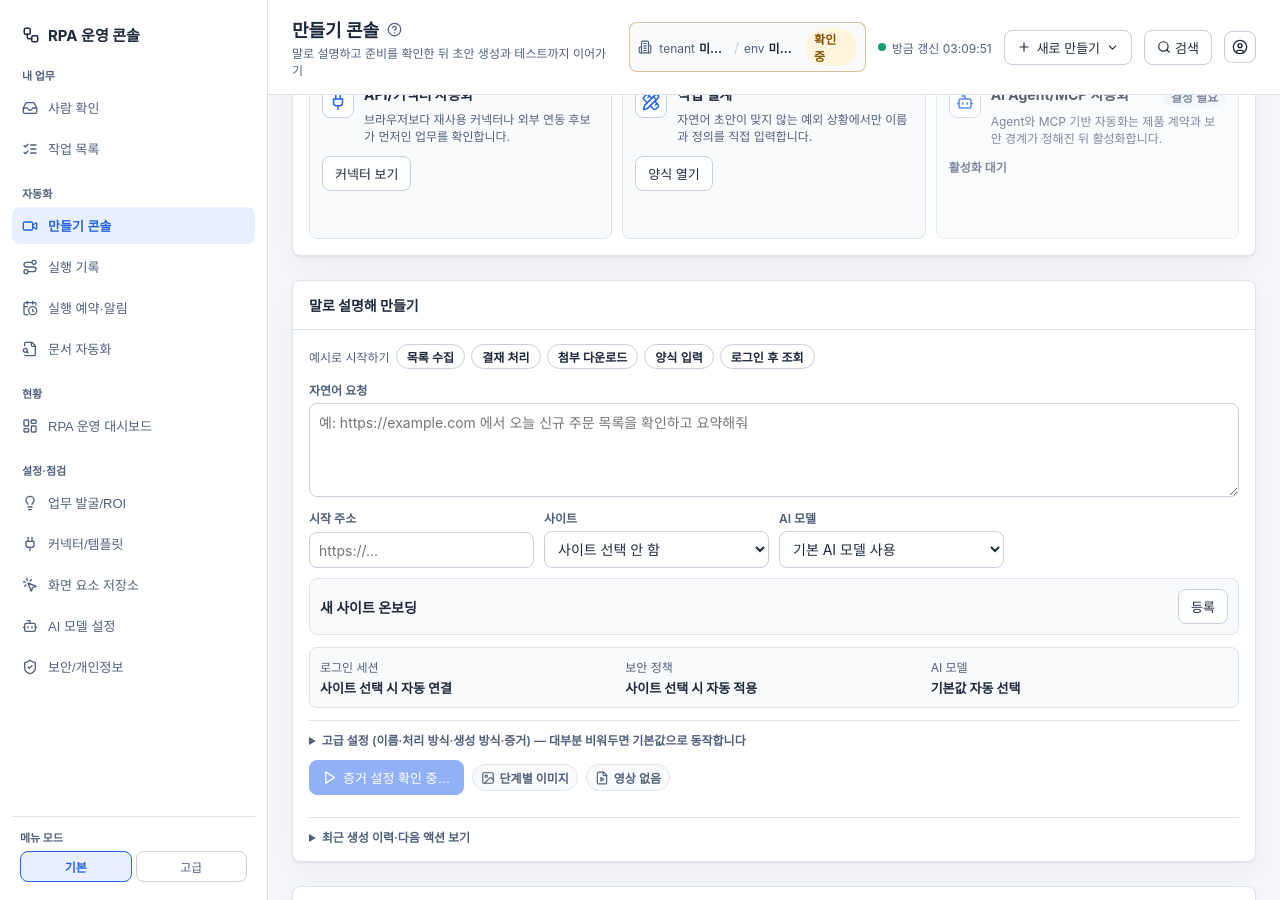
Test: create one-pass shell (F3) › TESTING: 테스트 실행이 화면 이동 없이 홈 안 TestProgress 로 이어진다
This screenshot has width=1280, height=900.
(page scrolled)
Type "주문 목록을 확인해줘" into the text box labelled "자연어 요청" at (774, 450), box [309,403,1239,497]
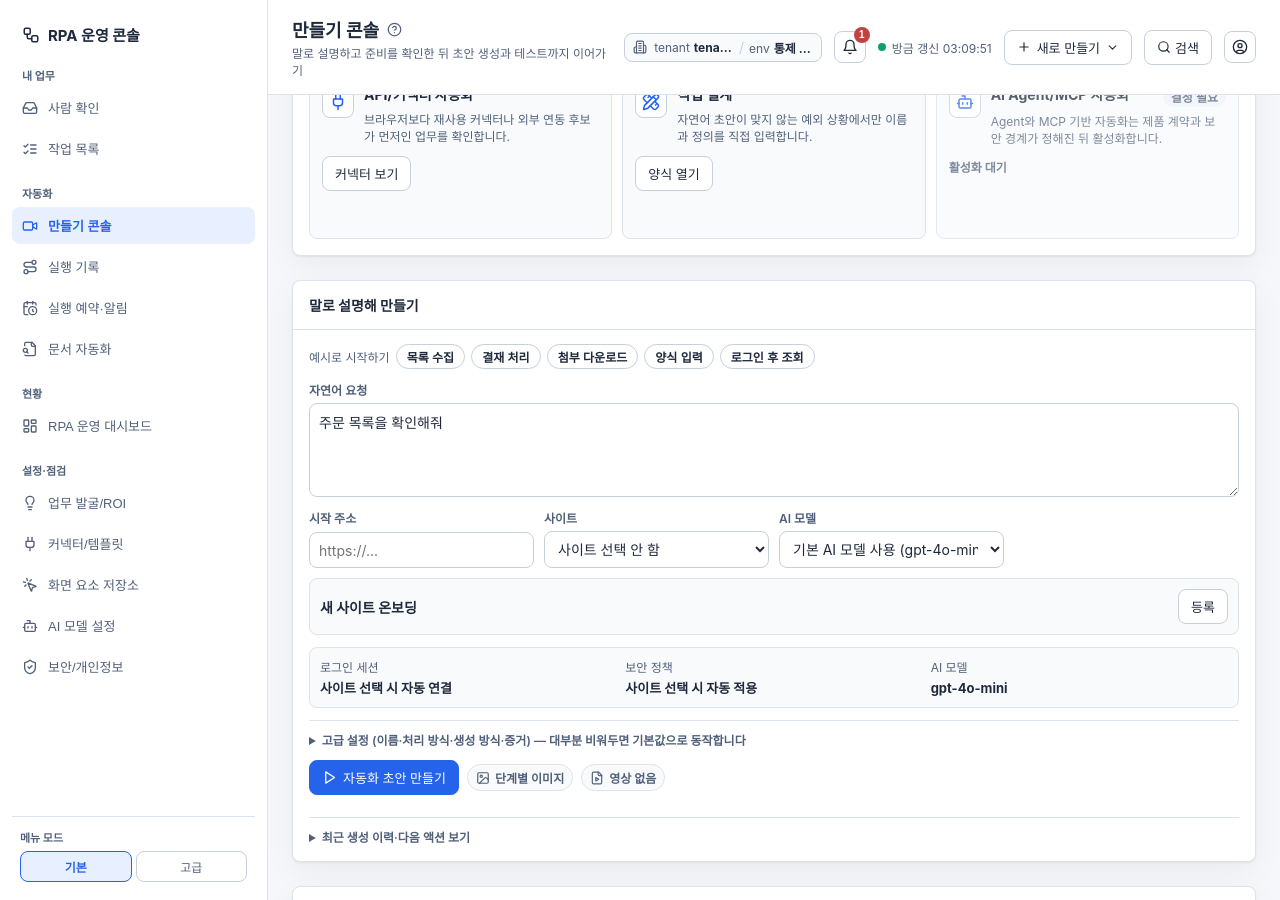
Expected: the button "자동화 초안 만들기" is enabled
Click the button "자동화 초안 만들기" at (384, 778), box [309,760,459,795]
(page scrolled)
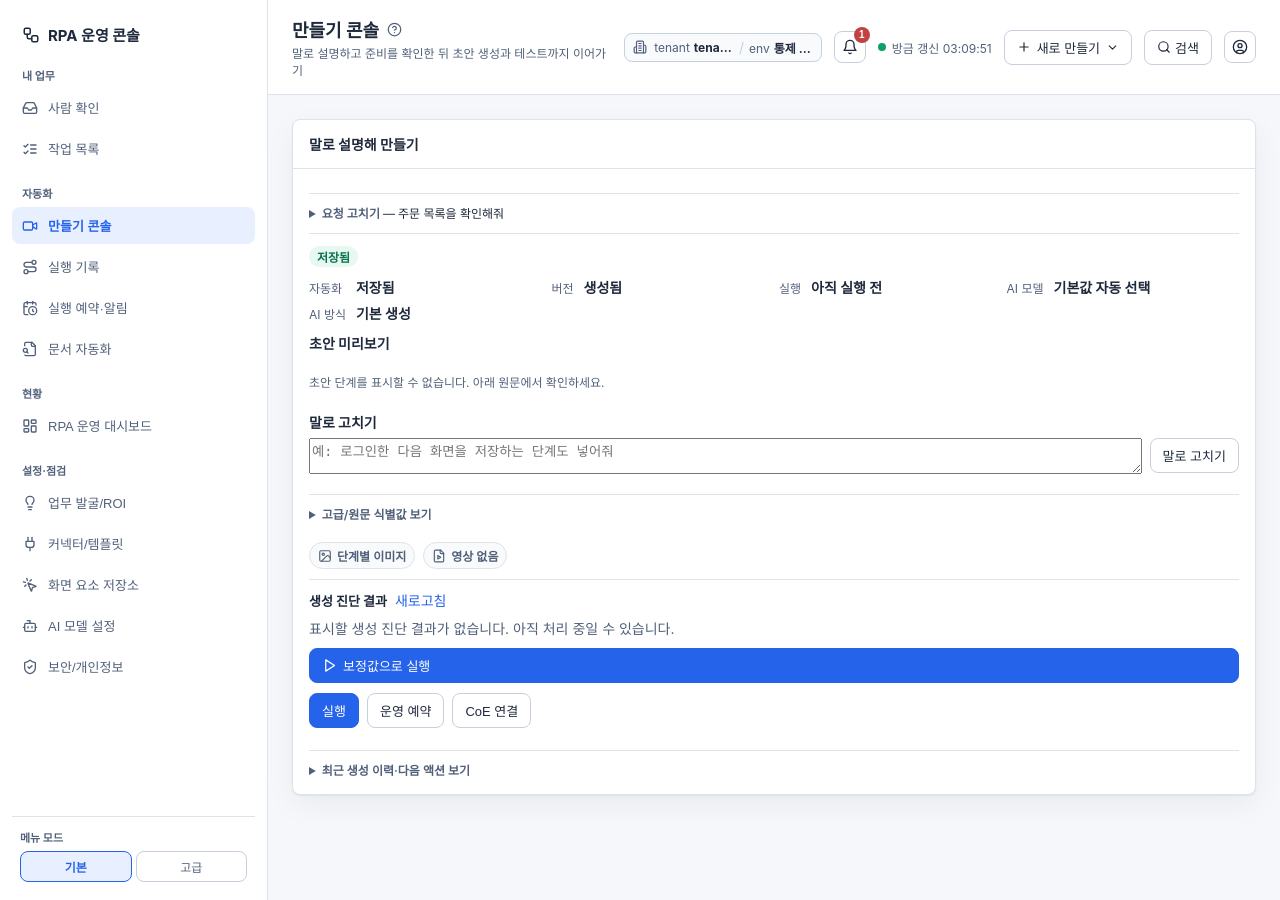
Expected: the text "초안 미리보기" is shown, [309,335,390,352]
Click the button "실행" at (334, 710), box [309,693,359,728]
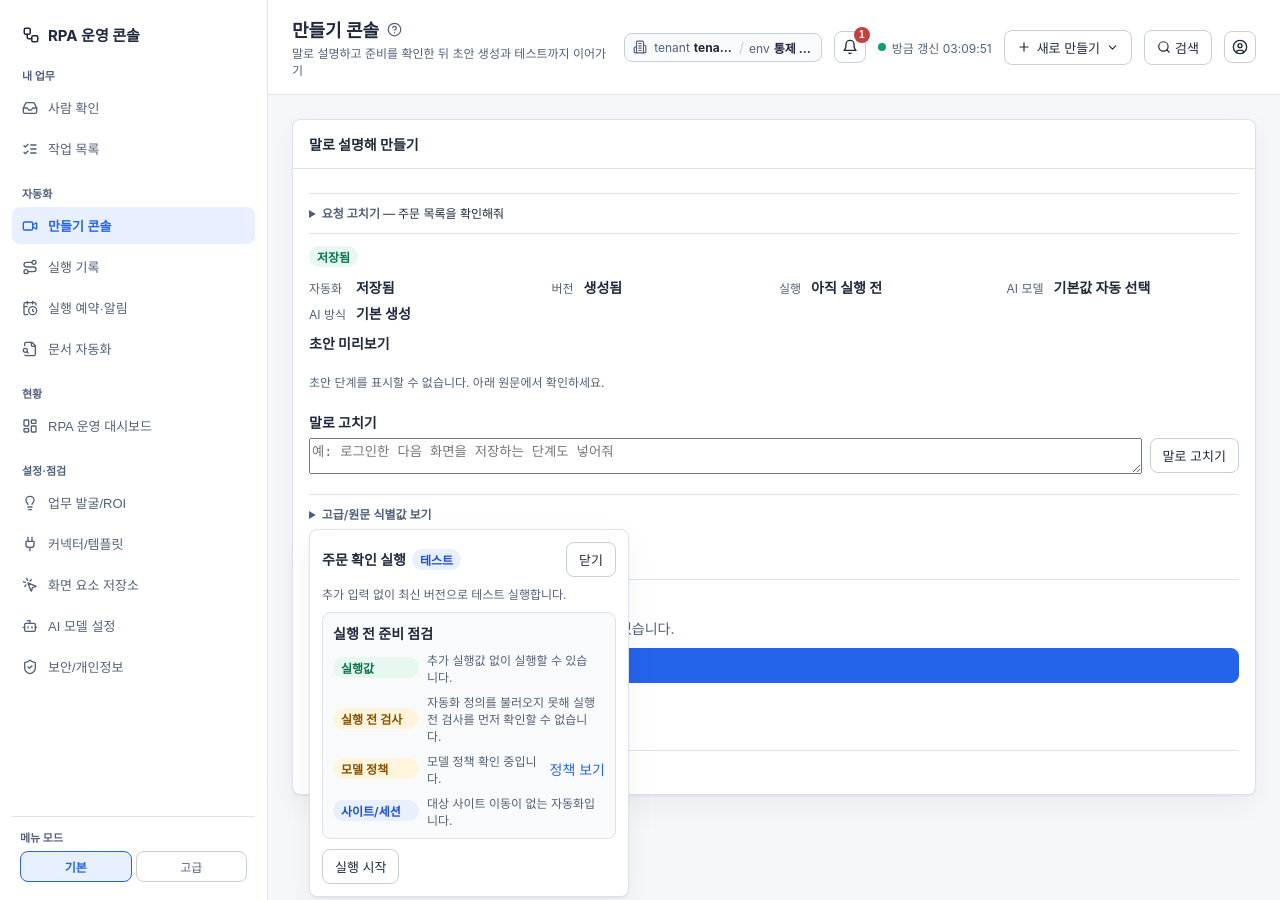
Click the button "실행 시작" at (361, 866), box [322,848,400,884]
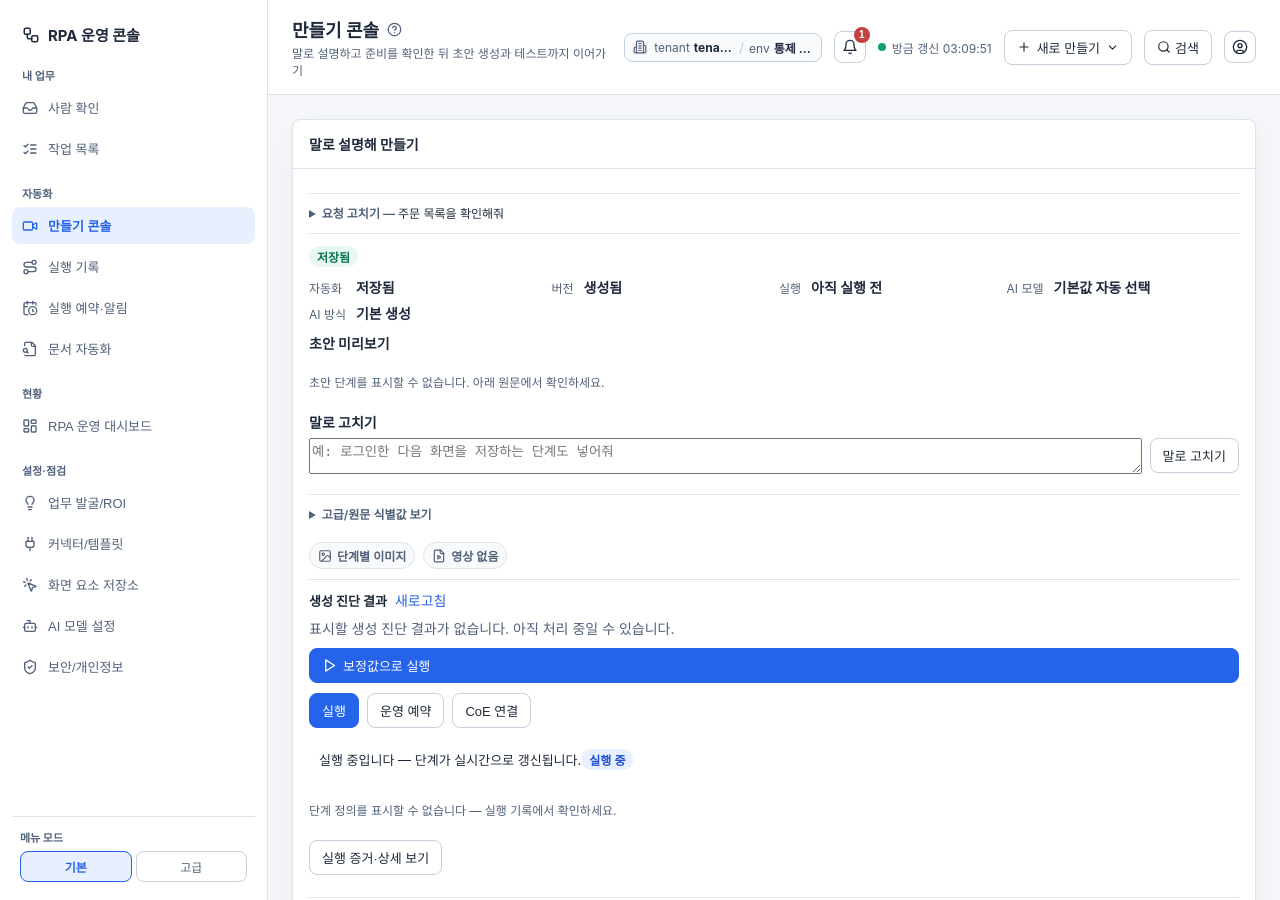
Expected: the text "초안 미리보기" is shown, [309,335,390,352]
Expected: the text "실행 중입니다 — 단계가 실시간으로 갱신됩니다." is shown, [319,752,581,768]
